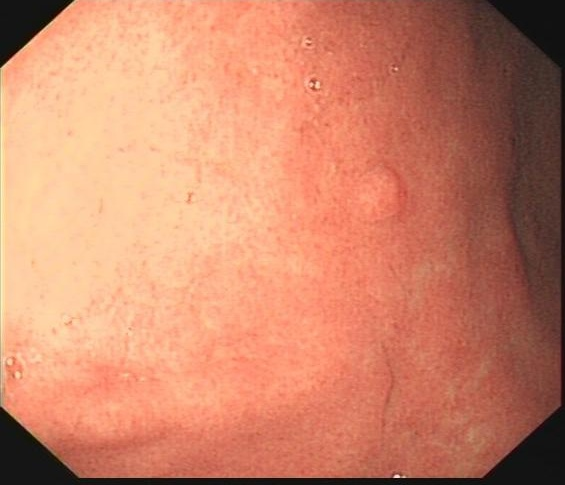Polyp: (330, 137, 418, 235)
